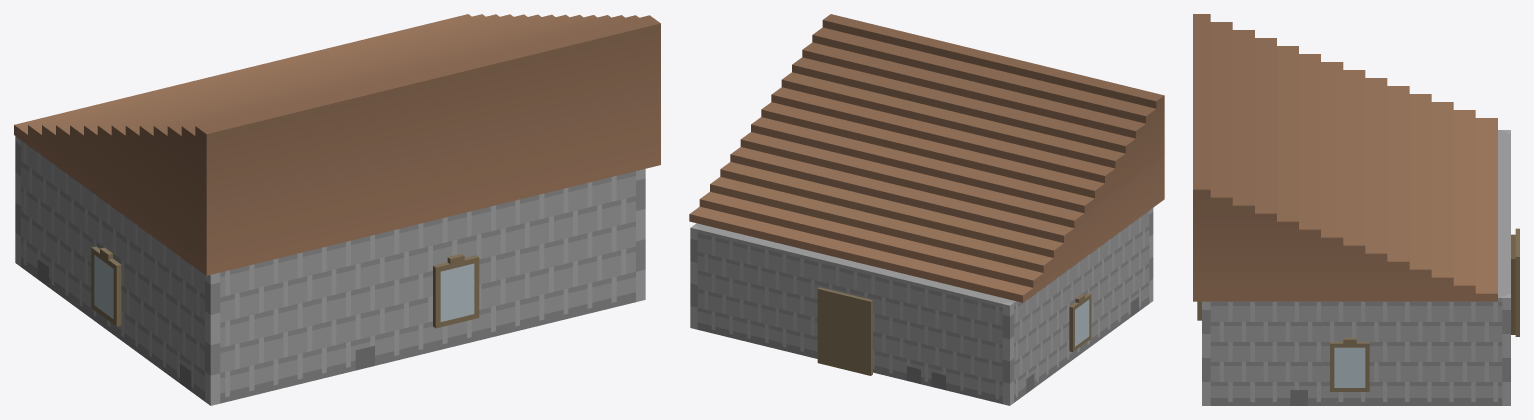
The model's file is taller_picapedrero_02.glb.
3 renders of one model, left to right at view 1: azimuth 30°, elevation 25°; view 2: azimuth 150°, elevation 25°; view 3: azimuth 270°, elevation 25°, orthographic. The views are drawn at different scales.
Visible parts, largest first — view 1: taller_picapedrero_02; view 2: taller_picapedrero_02; view 3: taller_picapedrero_02.
Part boxes in pixels (x1,y1,x2,y2): taller_picapedrero_02: [14, 14, 660, 405]; taller_picapedrero_02: [689, 14, 1164, 405]; taller_picapedrero_02: [1193, 14, 1519, 405].
Bounding box in the file's own units: 9.4 × 5.5 × 7.4.
